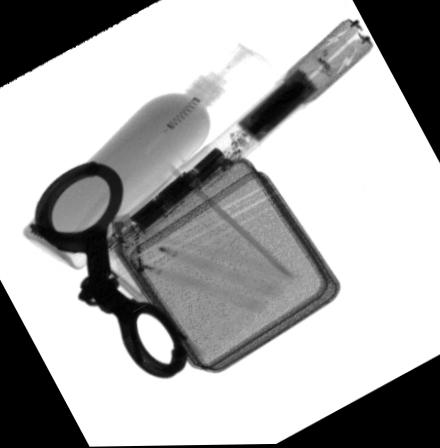Baton: (106, 18, 374, 253)
HandCuffs: (26, 158, 188, 379)
Lighter: (118, 216, 146, 277)
